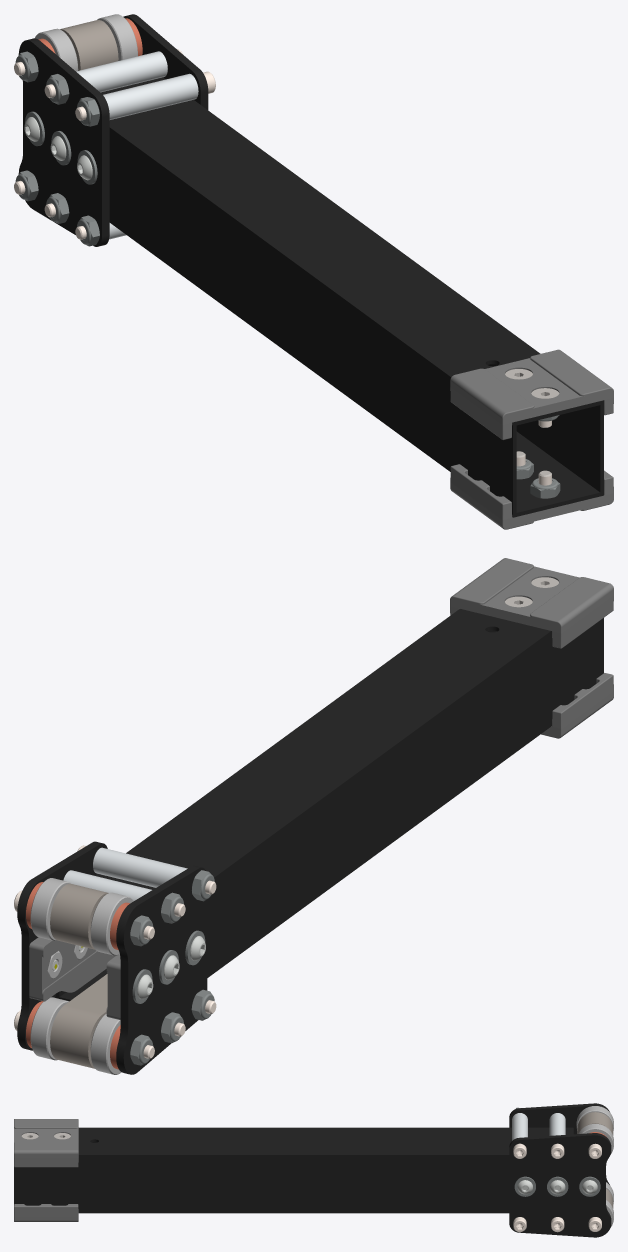
The picture shows the model from 3 angles, top to bottom: view 1: azimuth 30°, elevation 25°; view 2: azimuth 150°, elevation 25°; view 3: azimuth 270°, elevation 25°; orthographic projection. The views are drawn at different scales.
Visible parts, largest first — view 1: tube 1, am-4644 Climber In A Box 1.5IN Bearing Plate (×2), am-4631 1.5x1.5 Clamp Slider Block (×2), 92510A651_ALUM UNTHRD SPACER_92510A651 (×2), SH8J30 Spring, am-4456 8 mm ID 22 mm OD Shielded Bearing 608ZZ_57155K629 (×2); view 2: tube 1, am-4644 Climber In A Box 1.5IN Bearing Plate (×2), am-4631 1.5x1.5 Clamp Slider Block (×2), SH8J30 Spring (×2), am-4456 8 mm ID 22 mm OD Shielded Bearing 608ZZ_57155K629 (×4), am-4629 Inside Slider Block (×2), 92510A651_ALUM UNTHRD SPACER_92510A651 (×2); view 3: tube 1, am-4644 Climber In A Box 1.5IN Bearing Plate (×2), am-4631 1.5x1.5 Clamp Slider Block (×2), 92510A651_ALUM UNTHRD SPACER_92510A651 (×2), am-4456 8 mm ID 22 mm OD Shielded Bearing 608ZZ_57155K629 (×2), SH8J30 Spring, 10 Washer am-1026.
Part boxes in pixels (box(x1,y1,x2,y2)): tube 1: box(100, 77, 603, 517); am-4644 Climber In A Box 1.5IN Bearing Plate (×2): box(18, 14, 208, 246); am-4631 1.5x1.5 Clamp Slider Block (×2): box(450, 349, 613, 529); 92510A651_ALUM UNTHRD SPACER_92510A651 (×2): box(76, 51, 198, 119); SH8J30 Spring: box(60, 20, 118, 70); am-4456 8 mm ID 22 mm OD Shielded Bearing 608ZZ_57155K629 (×2): box(35, 14, 137, 71); tube 1: box(55, 609, 603, 1001); am-4644 Climber In A Box 1.5IN Bearing Plate (×2): box(17, 841, 207, 1074); am-4631 1.5x1.5 Clamp Slider Block (×2): box(450, 558, 613, 738); SH8J30 Spring (×2): box(50, 883, 108, 1068); am-4456 8 mm ID 22 mm OD Shielded Bearing 608ZZ_57155K629 (×4): box(30, 878, 133, 1074); am-4629 Inside Slider Block (×2): box(29, 937, 120, 1019); 92510A651_ALUM UNTHRD SPACER_92510A651 (×2): box(63, 847, 187, 900); tube 1: box(14, 1127, 573, 1213); am-4644 Climber In A Box 1.5IN Bearing Plate (×2): box(509, 1103, 611, 1237); am-4631 1.5x1.5 Clamp Slider Block (×2): box(14, 1119, 78, 1221); 92510A651_ALUM UNTHRD SPACER_92510A651 (×2): box(512, 1113, 565, 1140); am-4456 8 mm ID 22 mm OD Shielded Bearing 608ZZ_57155K629 (×2): box(576, 1106, 613, 1154); SH8J30 Spring: box(577, 1112, 613, 1135); 10 Washer am-1026: box(579, 1176, 600, 1196).
Bounding box in the file's own units: 0.0556 × 0.0695 × 0.3539.
